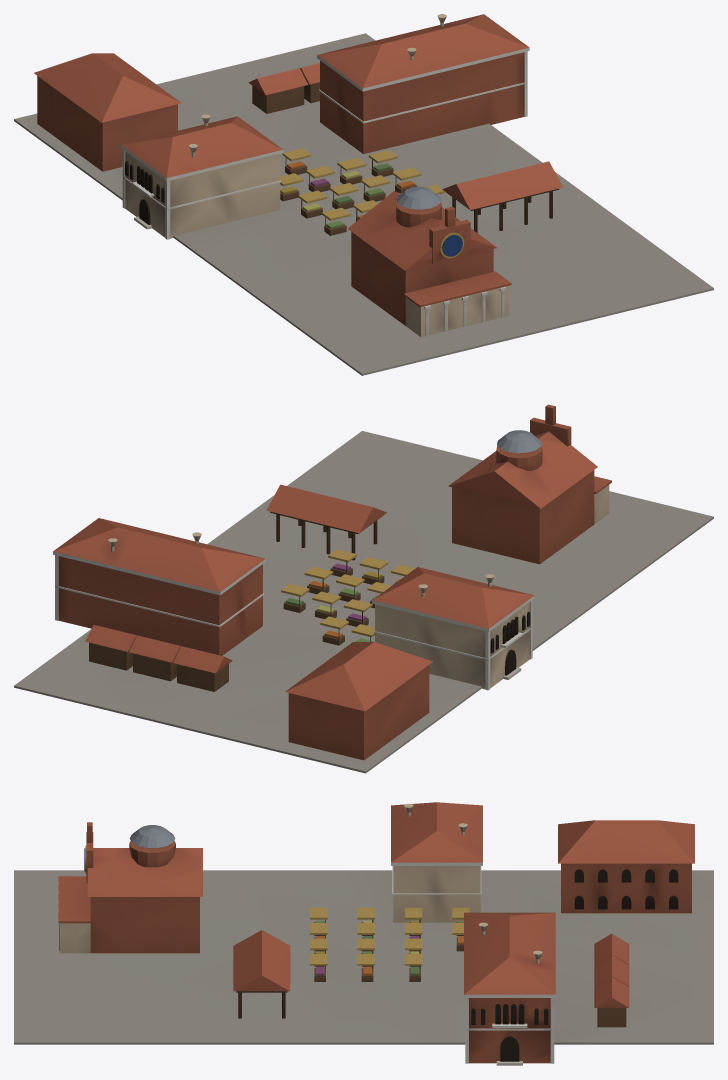
The model's file is rialto-market-old.glb.
The picture shows the model from 3 angles, top to bottom: view 1: azimuth 30°, elevation 25°; view 2: azimuth 150°, elevation 25°; view 3: azimuth 270°, elevation 25°; orthographic projection.
Visible parts, largest first — view 1: p1_buildings, p0_ground, p2_stalls; view 2: p1_buildings, p0_ground, p2_stalls; view 3: p0_ground, p1_buildings, p2_stalls.
Boxes of the visible parts, x1,y1,x2,y2 form: p1_buildings: (34,14,563,337); p0_ground: (14,33,713,375); p2_stalls: (248,63,444,235); p1_buildings: (53,404,611,760); p0_ground: (14,431,713,773); p2_stalls: (85,549,415,691); p0_ground: (14,870,713,1044); p1_buildings: (58,802,694,1065); p2_stalls: (310,907,629,1027).
Size of the model in its own units: 64.6 by 16.6 by 96.
